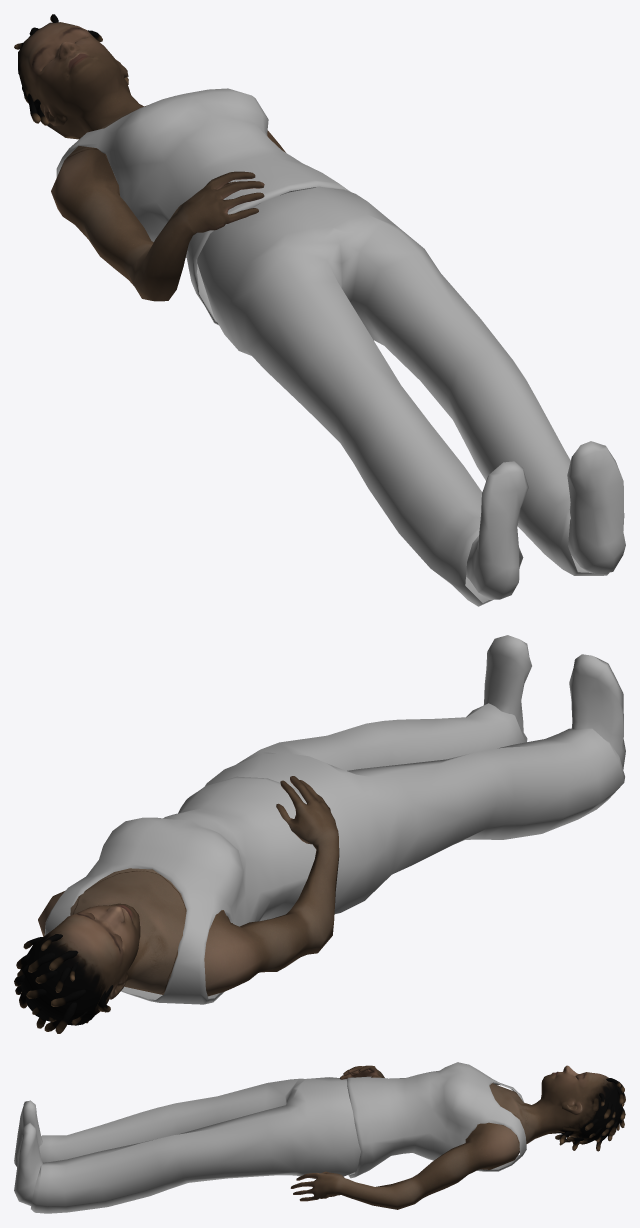
The model's file is Ray_Posed.fbx.
3 views of the same model, one above another, from view 1: azimuth 30°, elevation 25°; view 2: azimuth 150°, elevation 25°; view 3: azimuth 270°, elevation 25° (orthographic). The views are drawn at different scales.
Visible parts, largest first — view 1: Pants1, Upper_Body2, Shirt1, Socks1; view 2: Pants1, Upper_Body2, Shirt1, Socks1; view 3: Pants1, Upper_Body2, Shirt1, Socks1.
Part boxes in pixels (x1,y1,x2,y2): Pants1: (197, 186, 609, 606); Upper_Body2: (14, 14, 285, 301); Shirt1: (56, 88, 350, 325); Socks1: (466, 441, 625, 599); Pants1: (205, 703, 624, 913); Upper_Body2: (14, 776, 339, 1033); Shirt1: (44, 776, 316, 1004); Socks1: (484, 635, 625, 769); Pants1: (31, 1077, 360, 1213); Upper_Body2: (290, 1065, 625, 1209); Shirt1: (347, 1062, 526, 1178); Socks1: (14, 1100, 42, 1205).
Size of the model in its own units: 0.4837 by 0.432 by 1.86.
2 materials, 1 textured.
